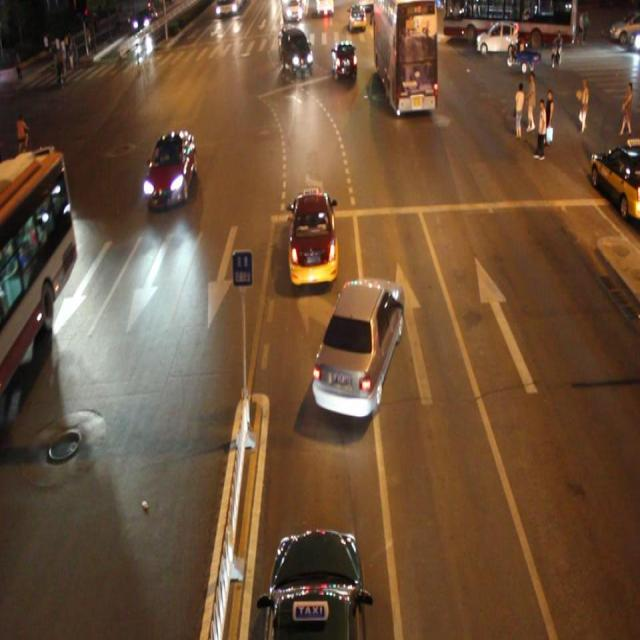car: (312, 274, 404, 416), (262, 526, 366, 640), (287, 188, 339, 284), (143, 128, 197, 206), (26, 137, 64, 197), (280, 28, 314, 75), (331, 40, 358, 82)
van: (1, 154, 78, 392), (372, 2, 437, 112)
